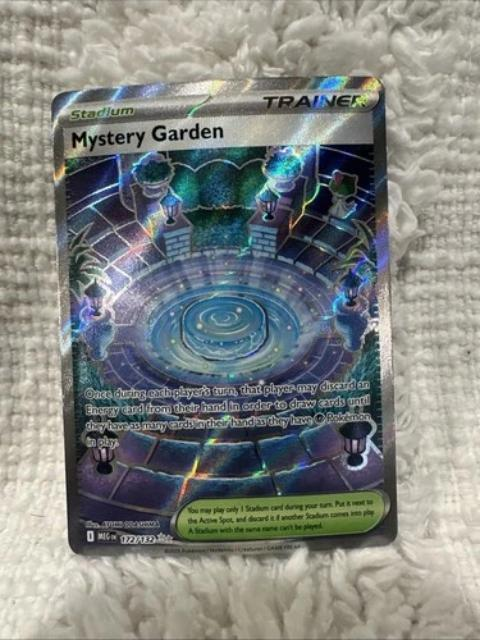Card: (51, 69, 401, 559)
Name: (65, 117, 236, 154)
